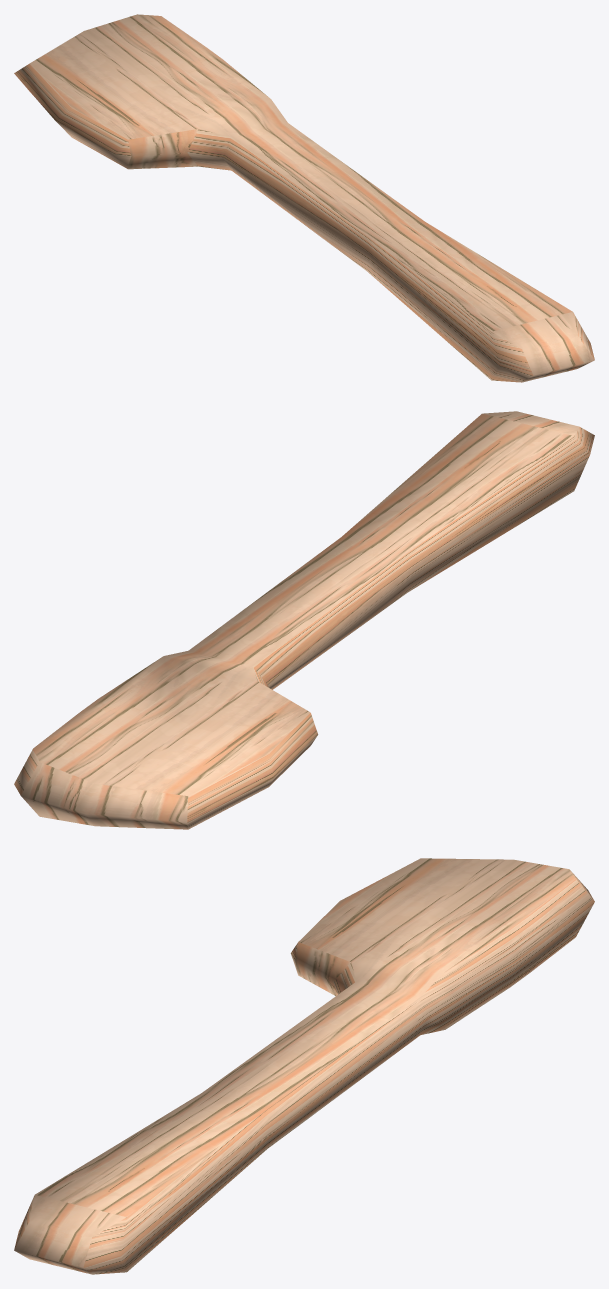
Rendered from kitchen_hera.fbx.
3 views of the same model, one above another, from view 1: azimuth 30°, elevation 25°; view 2: azimuth 150°, elevation 25°; view 3: azimuth 330°, elevation 25° (orthographic). The views are drawn at different scales.
Parts seen in each view (by area): view 1: hera; view 2: hera; view 3: hera.
Part boxes in pixels (left/top/right/bottom): hera: left=14, top=14, right=594, bottom=382; hera: left=14, top=411, right=594, bottom=829; hera: left=14, top=858, right=594, bottom=1274.
Size of the model in its own units: 25.92 by 7.4 by 118.
1 material, 1 textured.
